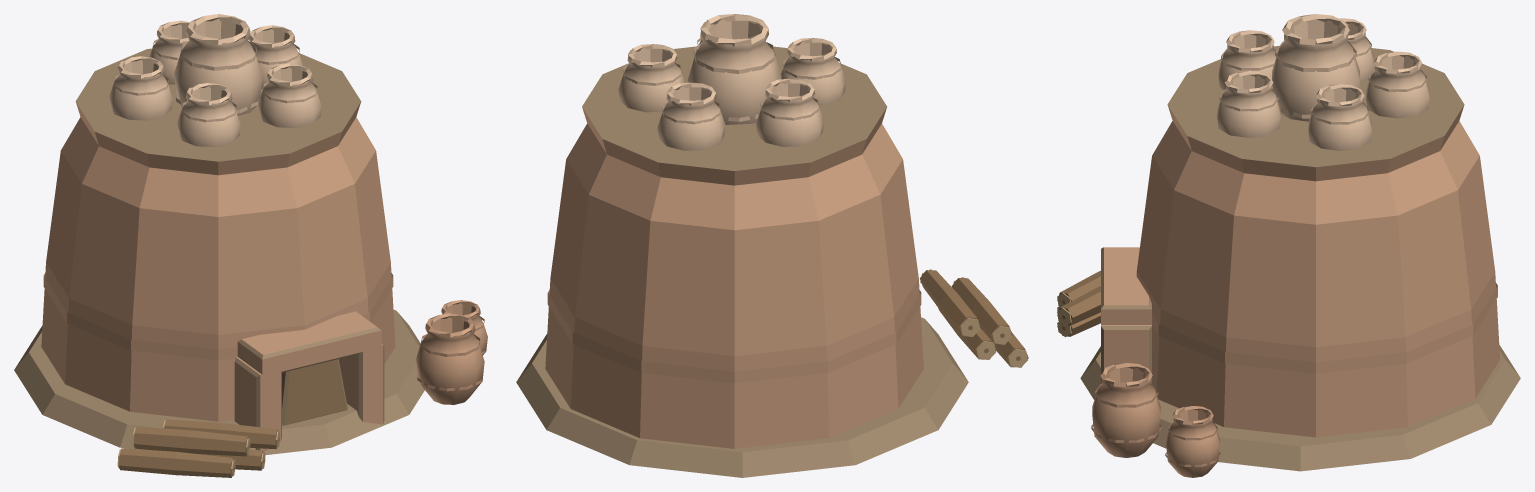
The model's file is asset_kiln_unlit.glb.
The picture shows the model from 3 angles, left to right: view 1: azimuth 30°, elevation 25°; view 2: azimuth 150°, elevation 25°; view 3: azimuth 270°, elevation 25°; orthographic projection. The views are drawn at different scales.
Visible parts, largest first — view 1: asset_kiln_unlit; view 2: asset_kiln_unlit; view 3: asset_kiln_unlit.
Part boxes in pixels (x1,y1,x2,y2): asset_kiln_unlit: [14, 14, 487, 477]; asset_kiln_unlit: [516, 14, 1028, 477]; asset_kiln_unlit: [1057, 14, 1520, 477].
Bounding box in the file's own units: 1.85 × 1.52 × 1.81.
